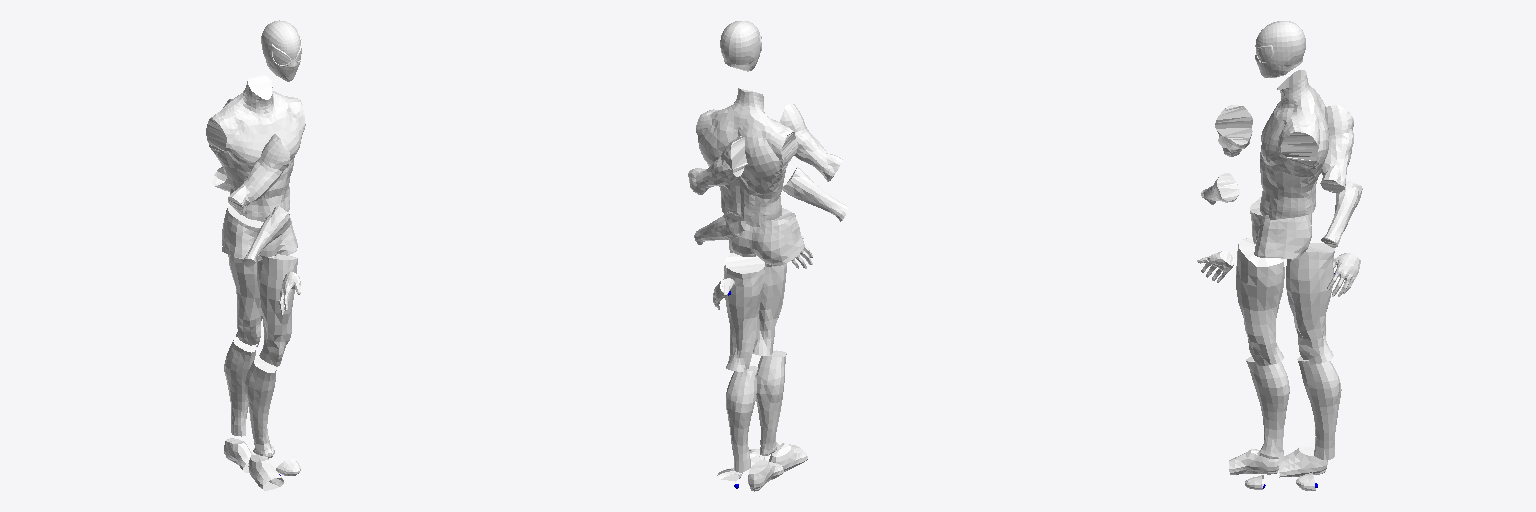
--- What the picture shows (computed from the rendered views, not written in the file) ---
The picture shows the robot from 3 angles, left to right: view 1: azimuth 30°, elevation 25°; view 2: azimuth 150°, elevation 25°; view 3: azimuth 270°, elevation 25°; orthographic projection.
Model spiderman with 41 links and 40 joints (32 revolute, 8 fixed), rooted at base_link, posed all joints at 0.
Visible links, largest first — view 1: Thorax, RThigh, Pelvis, RHumerus, RShank, LThigh, Skull, LShank, RForearm, RFoot, LFoot; view 2: Thorax, LThigh, Pelvis, RShank, LShank, RThigh, RHumerus, LHumerus, Skull, RForearm, LForearm, LFoot (+1 smaller); view 3: Thorax, RThigh, LThigh, LShank, RShank, Pelvis, Skull, LHumerus, RHumerus, LForearm, LFoot, RFoot (+3 smaller).
Boxes of the visible links, <box> form: Thorax: <box>206,74,305,221</box>; RThigh: <box>257,254,297,366</box>; Pelvis: <box>222,206,297,260</box>; RHumerus: <box>228,134,289,214</box>; RShank: <box>245,357,276,456</box>; LThigh: <box>228,255,262,346</box>; Skull: <box>261,20,301,81</box>; LShank: <box>224,337,255,436</box>; RForearm: <box>243,206,291,266</box>; RFoot: <box>248,455,283,490</box>; LFoot: <box>224,438,253,472</box>; Thorax: <box>696,88,797,222</box>; LThigh: <box>724,253,764,371</box>; Pelvis: <box>729,208,804,266</box>; RShank: <box>756,350,786,455</box>; LShank: <box>726,365,758,472</box>; RThigh: <box>753,263,786,355</box>; RHumerus: <box>780,103,842,181</box>; LHumerus: <box>688,136,747,194</box>; Skull: <box>720,21,761,71</box>; RForearm: <box>782,167,847,221</box>; LForearm: <box>694,211,744,244</box>; LFoot: <box>748,460,783,491</box>; Thorax: <box>1260,70,1328,219</box>; RThigh: <box>1236,238,1284,365</box>; LThigh: <box>1286,243,1334,364</box>; LShank: <box>1297,356,1341,459</box>; RShank: <box>1246,356,1289,458</box>; Pelvis: <box>1250,196,1311,259</box>; Skull: <box>1255,21,1305,77</box>; LHumerus: <box>1320,105,1353,192</box>; RHumerus: <box>1215,105,1252,156</box>; LForearm: <box>1321,180,1362,247</box>; LFoot: <box>1278,447,1327,477</box>; RFoot: <box>1229,449,1279,474</box>.
Bounding box of the posed robot: 0.475 × 0.6128 × 1.93 m (x, y, z).
17 mesh visuals loaded from 17 distinct referenced files (17 binary STL).

robot.urdf — spiderman:
<?xml version="1.0"?>
<!-- meshes from http://tf3dm.com/ -->
<robot name="spiderman">
  <material name="Blue"> <!-- for spheres -->
    <color rgba="0 0 1 0.5"/>
  </material>
  <material name="White"> <!-- for bones -->
    <color rgba="1 1 1 1"/>
  </material>
  <material name="Green"> <!-- for bones -->
    <color rgba="0 1 0.1 0.2"/>
  </material>

  <link name="base_link"/>
  <joint name="base_link_J" type="fixed">
      <parent link="base_link"/>
      <child link="Pelvis"/>
      <origin rpy="0 0 0" xyz="0 0 0"/>
   </joint>

  <link name="virtualPelvis"/> <!-- for Blender Armature export -->
  <joint name="virtualPelvis" type="fixed">
      <parent link="base_link"/>
      <child link="virtualPelvis"/>
      <origin rpy="0 0 0" xyz="0 0 0"/>
  </joint>

   <link name="Pelvis">
      <inertial>
         <origin rpy="0 0 0" xyz="0 0 0"/>
         <mass value="8.4552"/>
         <inertia ixx="0" ixy="0" ixz="0" iyy="0" iyz="0" izz="0"/>
      </inertial>
      <visual>
         <origin xyz="0 0 0" rpy="0 0 0"/>
         <geometry>
            <mesh filename="package://hpp-rbprm-corba/meshes/spiderman/spiderman-pelvis.stl"/>
         </geometry>
         <material name="White"/>
      </visual>
      <collision>
         <origin xyz="0 0 0" rpy="0 0 0"/>
         <geometry>
            <mesh filename="package://hpp-rbprm-corba/meshes/spiderman/spiderman-pelvis.stl"/>
         </geometry>
      </collision>
   </link>

  <!--<joint name="pelvis_rfoot_rom_joint" type="fixed">
      <parent link="Pelvis"/>
      <child link="pelvis_rfoot_rom"/>
      <origin rpy="0 0 0" xyz="0 0 0"/>
   </joint>
  <link name="pelvis_rfoot_rom">
      <visual>
         <origin xyz="0 0 0" rpy="0 0 0"/>
         <geometry>
            <mesh filename="package://hpp-rbprm-corba/meshes/spiderman/rfoot_rom.stl"/>
         </geometry>
         <material name="Green"/>
      </visual>
   </link>-->
   
  <!--<joint name="pelvis_lfoot_rom_joint" type="fixed">
      <parent link="Pelvis"/>
      <child link="pelvis_lfoot_rom"/>
      <origin rpy="0 0 0" xyz="0 0 0"/>
   </joint>
  <link name="pelvis_lfoot_rom">
      <visual>
         <origin xyz="0 0 0" rpy="0 0 0"/>
         <geometry>
            <mesh filename="package://hpp-rbprm-corba/meshes/spiderman/lfoot_rom.stl"/>
         </geometry>
         <material name="Green"/>
      </visual>
   </link>-->

   <link name="Thorax_rx"/>
   <link name="Thorax_ry"/>
   <link name="Thorax">
      <inertial>
         <origin rpy="0 0 0" xyz="0 0 0"/>
         <mass value="19.8372"/>
         <inertia ixx="-0.16485" ixy="0.25777" ixz="0.0015499" iyy="0.20309" iyz="-0.0061998" izz="-0.18263"/>
      </inertial>
      <visual>
         <origin xyz="0 0 0" rpy="0 0 0"/>
         <geometry>
            <mesh filename="package://hpp-rbprm-corba/meshes/spiderman/spiderman-thorax.stl"/>
         </geometry>
         <material name="White"/>
      </visual>
      <collision>
         <origin xyz="0 0 0" rpy="0 0 0"/>
         <geometry>
            <mesh filename="package://hpp-rbprm-corba/meshes/spiderman/spiderman-thorax.stl"/>
         </geometry>
      </collision>
   </link>

  <!--<joint name="thorax_rhand_rom_joint" type="fixed">
      <parent link="Thorax"/>
      <child link="thorax_rhand_rom"/>
      <origin rpy="0 0 0" xyz="0 0 0"/>
   </joint>
  <link name="thorax_rhand_rom">
      <visual>
         <origin xyz="0 0 0" rpy="0 0 0"/>
         <geometry>
            <mesh filename="package://hpp-rbprm-corba/meshes/spiderman/rhand_rom.stl"/>
         </geometry>
         <material name="Green"/>
      </visual>
   </link>

  <joint name="thorax_lhand_rom_joint" type="fixed">
      <parent link="Thorax"/>
      <child link="thorax_lhand_rom"/>
      <origin rpy="0 0 0" xyz="0 0 0"/>
   </joint>
  <link name="thorax_lhand_rom">
      <visual>
         <origin xyz="0 0 0" rpy="0 0 0"/>
         <geometry>
            <mesh filename="package://hpp-rbprm-corba/meshes/spiderman/lhand_rom.stl"/>
         </geometry>
         <material name="Green"/>
      </visual>
   </link>-->

   <link name="Skull_rx"/>
   <link name="Skull_ry"/>
   <link name="Skull">
      <inertial>
         <origin rpy="0 0 0" xyz="0 0 0"/>
         <mass value="4.2276"/>
         <inertia ixx="0.0071027" ixy="-0.00059867" ixz="-2.9564e-05" iyy="0.0046194" iyz="6.6519e-05" izz="0.0080488"/>
      </inertial>
      <visual>
         <origin xyz="0 0 0" rpy="0 0 0"/>
         <geometry>
            <mesh filename="package://hpp-rbprm-corba/meshes/spiderman/spiderman-skull.stl"/>
         </geometry>
         <material name="White"/>
      </visual>
      <collision>
         <origin xyz="0 0 0" rpy="0 0 0"/>
         <geometry>
            <mesh filename="package://hpp-rbprm-corba/meshes/spiderman/spiderman-skull.stl"/>
         </geometry>
      </collision>
   </link>
   <link name="RThigh_rx"/>
   <link name="RThigh_ry"/>
   <link name="RThigh">
      <inertial>
         <origin rpy="0 0 0" xyz="0 0 0"/>
         <mass value="7.3797"/>
         <inertia ixx="0.11501" ixy="0.0067008" ixz="-0.000547" iyy="0.030769" iyz="-0.0067008" izz="0.12308"/>
      </inertial>
      <visual>
         <origin xyz="0 0 0" rpy="0 0 0"/>
         <geometry>
            <mesh filename="package://hpp-rbprm-corba/meshes/spiderman/spiderman-RThigh.stl"/>
         </geometry>
         <material name="White"/>
      </visual>
      <collision>
         <origin xyz="0 0 0" rpy="0 0 0"/>
         <geometry>
            <mesh filename="package://hpp-rbprm-corba/meshes/spiderman/spiderman-RThigh.stl"/>
         </geometry>
      </collision>
   </link>
   <link name="RShank">
      <inertial>
         <origin rpy="0 0 0" xyz="0 0 0"/>
         <mass value="2.8801"/>
         <inertia ixx="0.042617" ixy="-0.00086974" ixz="-0.00021743" iyy="0.0054359" iyz="0.001359" izz="0.042617"/>
      </inertial>
      <visual>
         <origin xyz="0 0 0" rpy="0 0 0"/>
         <geometry>
            <mesh filename="package://hpp-rbprm-corba/meshes/spiderman/spiderman-RShank.stl"/>
         </geometry>
         <material name="White"/>
      </visual>
      <collision>
         <origin xyz="0 0 0" rpy="0 0 0"/>
         <geometry>
            <mesh filename="package://hpp-rbprm-corba/meshes/spiderman/spiderman-RShank.stl"/>
         </geometry>
      </collision>
   </link>
   <link name="RFoot_ry"/>
   <link name="RFoot">
      <inertial>
         <origin rpy="0 0 0" xyz="0 0 0"/>
         <mass value="0.52"/>
         <inertia ixx="0.0035454" ixy="0.00043767" ixz="0" iyy="0.00074844" iyz="-0.00016575" izz="0.0033563"/>
      </inertial>
      <visual>
         <origin xyz="0 0 0" rpy="0 0 0"/>
         <geometry>
            <mesh filename="package://hpp-rbprm-corba/meshes/spiderman/spiderman-RFoot.stl"/>
         </geometry>
         <material name="White"/>
      </visual>
      <collision>
         <origin xyz="0 0 0" rpy="0 0 0"/>
         <geometry>
            <mesh filename="package://hpp-rbprm-corba/meshes/spiderman/spiderman-RFoot.stl"/>
         </geometry>
      </collision>
   </link>
   <link name="RFootToe">
      <inertial>
         <origin rpy="0 0 0" xyz="0 0 0"/>
         <mass value="0.2"/>
         <inertia ixx="0.0035454" ixy="0.00043767" ixz="0" iyy="0.00074844" iyz="-0.00016575" izz="0.0033563"/>
      </inertial>
      <visual>
         <origin xyz="0 0 0" rpy="0 0 0"/>
         <geometry>
            <mesh filename="package://hpp-rbprm-corba/meshes/spiderman/spiderman-RFootToe.stl"/>
         </geometry>
         <material name="White"/>
      </visual>
      <collision>
         <origin xyz="0 0 0" rpy="0 0 0"/>
         <geometry>
            <mesh filename="package://hpp-rbprm-corba/meshes/spiderman/spiderman-RFootToe.stl"/>
         </geometry>
      </collision>
   </link>
  <link name="SpidermanRFootSphere">
      <visual>
         <origin xyz="0 0 0" rpy="0 0 0"/>
         <geometry>
            <sphere radius="0.01"/>
         </geometry>
         <material name="Blue"/>
      </visual>
   </link>
   <link name="LThigh_rx"/>
   <link name="LThigh_ry"/>
   <link name="LThigh">
      <inertial>
         <origin rpy="0 0 0" xyz="0 0 0"/>
         <mass value="7.3797"/>
         <inertia ixx="0.11501" ixy="0.0067008" ixz="-0.000547" iyy="0.030769" iyz="-0.0067008" izz="0.12308"/>
      </inertial>
      <visual>
         <origin xyz="0 0 0" rpy="0 0 0"/>
         <geometry>
            <mesh filename="package://hpp-rbprm-corba/meshes/spiderman/spiderman-LThigh.stl"/>
         </geometry>
         <material name="White"/>
      </visual>
      <collision>
         <origin xyz="0 0 0" rpy="0 0 0"/>
         <geometry>
            <mesh filename="package://hpp-rbprm-corba/meshes/spiderman/spiderman-LThigh.stl"/>
         </geometry>
      </collision>
   </link>
   <link name="LShank">
      <inertial>
         <origin rpy="0 0 0" xyz="0 0 0"/>
         <mass value="2.8801"/>
         <inertia ixx="0.042617" ixy="-0.00086974" ixz="-0.00021743" iyy="0.0054359" iyz="0.001359" izz="0.042617"/>
      </inertial>
      <visual>
         <origin xyz="0 0 0" rpy="0 0 0"/>
         <geometry>
            <mesh filename="package://hpp-rbprm-corba/meshes/spiderman/spiderman-LShank.stl"/>
         </geometry>
         <material name="White"/>
      </visual>
      <collision>
         <origin xyz="0 0 0" rpy="0 0 0"/>
         <geometry>
            <mesh filename="package://hpp-rbprm-corba/meshes/spiderman/spiderman-LShank.stl"/>
         </geometry>
      </collision>
   </link>
   <link name="LFoot_ry"/>
   <link name="LFoot">
      <inertial>
         <origin rpy="0 0 0" xyz="0 0 0"/>
         <mass value="0.52"/>
         <inertia ixx="0.0035454" ixy="0.00043767" ixz="0" iyy="0.00074844" iyz="-0.00016575" izz="0.0033563"/>
      </inertial>
      <visual>
         <origin xyz="0 0 0" rpy="0 0 0"/>
         <geometry>
            <mesh filename="package://hpp-rbprm-corba/meshes/spiderman/spiderman-LFoot.stl"/>
         </geometry>
         <material name="White"/>
      </visual>
      <collision>
         <origin xyz="0 0 0" rpy="0 0 0"/>
         <geometry>
            <mesh filename="package://hpp-rbprm-corba/meshes/spiderman/spiderman-LFoot.stl"/>
         </geometry>
      </collision>
   </link>
   <link name="LFootToe">
      <inertial>
         <origin rpy="0 0 0" xyz="0 0 0"/>
         <mass value="0.2"/>
         <inertia ixx="0.0035454" ixy="0.00043767" ixz="0" iyy="0.00074844" iyz="-0.00016575" izz="0.0033563"/>
      </inertial>
      <visual>
         <origin xyz="0 0 0" rpy="0 0 0"/>
         <geometry>
            <mesh filename="package://hpp-rbprm-corba/meshes/spiderman/spiderman-LFootToe.stl"/>
         </geometry>
         <material name="White"/>
      </visual>
      <collision>
         <origin xyz="0 0 0" rpy="0 0 0"/>
         <geometry>
            <mesh filename="package://hpp-rbprm-corba/meshes/spiderman/spiderman-LFootToe.stl"/>
         </geometry>
      </collision>
   </link>
  <link name="SpidermanLFootSphere">
      <visual>
         <origin xyz="0 0 0" rpy="0 0 0"/>
         <geometry>
            <sphere radius="0.01"/>
         </geometry>
         <material name="Blue"/>
      </visual>
   </link>
   <link name="RHumerus_rx"/>
   <link name="RHumerus_ry"/>
   <link name="RHumerus">
      <inertial>
         <origin rpy="0 0 0" xyz="0 0 0"/>
         <mass value="1.4399"/>
         <inertia ixx="-0.022156" ixy="0.00051827" ixz="0.00035991" iyy="0.0028217" iyz="5.7586e-05" izz="-0.021249"/>
      </inertial>
      <visual>
         <origin xyz="0 0 0" rpy="0 0 0"/>
         <geometry>
            <mesh filename="package://hpp-rbprm-corba/meshes/spiderman/spiderman-RHumerus.stl"/>
         </geometry>
         <material name="White"/>
      </visual>
      <collision>
         <origin xyz="0 0 0" rpy="0 0 0"/>
         <geometry>
            <mesh filename="package://hpp-rbprm-corba/meshes/spiderman/spiderman-RHumerus.stl"/>
         </geometry>
      </collision>
   </link>
   <link name="RForearm_ry"/>
   <link name="RForearm">
      <inertial>
         <origin rpy="0 0 0" xyz="0 0 0"/>
         <mass value="1.02"/>
         <inertia ixx="-0.0082187" ixy="5.6551e-05" ixz="2.5134e-05" iyy="0.0007603" iyz="-0.00040214" izz="-0.0085643"/>
      </inertial>
      <visual>
         <origin xyz="0 0 0" rpy="0 0 0"/>
         <geometry>
            <mesh filename="package://hpp-rbprm-corba/meshes/spiderman/spiderman-RForearm.stl"/>
         </geometry>
         <material name="White"/>
      </visual>
      <collision>
         <origin xyz="0 0 0" rpy="0 0 0"/>
         <geometry>
            <mesh filename="package://hpp-rbprm-corba/meshes/spiderman/spiderman-RForearm.stl"/>
         </geometry>
      </collision>
   </link>
   <link name="RHand_rx"/>
   <link name="RHand">
      <inertial>
         <origin rpy="0 0 0" xyz="0 0 0"/>
         <mass value="0.36011"/>
         <inertia ixx="0.0036215" ixy="0.00058753" ixz="0.00027313" iyy="0.0017529" iyz="-0.00048556" izz="0.0029113"/>
      </inertial>
      <visual>
         <origin xyz="0 0 0" rpy="0 0 0"/>
         <geometry>
            <mesh filename="package://hpp-rbprm-corba/meshes/spiderman/spiderman-RHand.stl"/>
         </geometry>
         <material name="White"/>
      </visual>
      <collision>
         <origin xyz="0 0 0" rpy="0 0 0"/>
         <geometry>
            <mesh filename="package://hpp-rbprm-corba/meshes/spiderman/spiderman-RHand.stl"/>
         </geometry>
      </collision>
   </link>
  <link name="SpidermanRHandSphere">
      <visual>
         <origin xyz="0 0 0" rpy="0 0 0"/>
         <geometry>
            <sphere radius = "0.01"/>
         </geometry>
         <material name="Blue"/>
      </visual>
   </link>

   <link name="LHumerus_rx"/>
   <link name="LHumerus_ry"/>
   <link name="LHumerus">
      <inertial>
         <origin rpy="0 0 0" xyz="0 0 0"/>
         <mass value="1.4399"/>
         <inertia ixx="-0.022156" ixy="0.00051827" ixz="0.00035991" iyy="0.0028217" iyz="5.7586e-05" izz="-0.021249"/>
      </inertial>
      <visual>
         <origin xyz="0 0 0" rpy="0 0 0"/>
         <geometry>
            <mesh filename="package://hpp-rbprm-corba/meshes/spiderman/spiderman-LHumerus.stl"/>
         </geometry>
         <material name="White"/>
      </visual>
      <collision>
         <origin xyz="0 0 0" rpy="0 0 0"/>
         <geometry>
            <mesh filename="package://hpp-rbprm-corba/meshes/spiderman/spiderman-LHumerus.stl"/>
         </geometry>
      </collision>
   </link>
   <link name="LForearm_ry"/>
   <link name="LForearm">
      <inertial>
         <origin rpy="0 0 0" xyz="0 -0.11352 0"/>
         <mass value="1.02"/>
         <inertia ixx="-0.0082187" ixy="5.6551e-05" ixz="2.5134e-05" iyy="0.0007603" iyz="-0.00040214" izz="-0.0085643"/>
      </inertial>
      <visual>
         <origin xyz="0 0 0" rpy="0 0 0"/>
         <geometry>
            <mesh filename="package://hpp-rbprm-corba/meshes/spiderman/spiderman-LForearm.stl"/>
         </geometry>
         <material name="White"/>
      </visual>
      <collision>
         <origin xyz="0 0 0" rpy="0 0 0"/>
         <geometry>
            <mesh filename="package://hpp-rbprm-corba/meshes/spiderman/spiderman-LForearm.stl"/>
         </geometry>
      </collision>
   </link>
   <link name="LHand_rx"/>
   <link name="LHand">
      <inertial>
         <origin rpy="0 0 0" xyz="0 0 0"/>
         <mass value="0.36011"/>
         <inertia ixx="0.0036215" ixy="0.00058753" ixz="0.00027313" iyy="0.0017529" iyz="-0.00048556" izz="0.0029113"/>
      </inertial>
      <visual>
         <origin xyz="0 0 0" rpy="0 0 0"/>
         <geometry>
            <mesh filename="package://hpp-rbprm-corba/meshes/spiderman/spiderman-LHand.stl"/>
         </geometry>
         <material name="White"/>
      </visual>
      <collision>
         <origin xyz="0 0 0" rpy="0 0 0"/>
         <geometry>
            <mesh filename="package://hpp-rbprm-corba/meshes/spiderman/spiderman-LHand.stl"/>
         </geometry>
      </collision>
   </link>
  <link name="SpidermanLHandSphere">
      <visual>
         <origin xyz="0 0 0" rpy="0 0 0"/>
         <geometry>
            <sphere radius="0.01"/>
         </geometry>
         <material name="Blue"/>
      </visual>
   </link>

  <joint name="A_Thorax_rx" type="revolute"> <!-- A_ added for order while parsing with ROS -->
      <parent link="Pelvis"/>
      <child link="Thorax_rx"/>
      <origin rpy="0 0 0" xyz="0.0373 0.0006 0.0788"/>
      <axis xyz="1 0 0"/>
      <limit effort="0" lower="-1" upper="1" velocity="1.0"/>
   </joint>
   <joint name="Thorax_ry" type="revolute">
      <parent link="Thorax_rx"/>
      <child link="Thorax_ry"/>
      <origin rpy="0 0 0" xyz="0 0 0"/>
      <axis xyz="0 1 0"/>
      <limit effort="0" lower="-0.8" upper="0.8" velocity="1.0"/>
   </joint>
   <joint name="Thorax_rz" type="revolute">
      <parent link="Thorax_ry"/>
      <child link="Thorax"/>
      <origin rpy="0 0 0" xyz="0 0 0"/>
      <axis xyz="0 0 1"/>
      <limit effort="0" lower="-1.5" upper="1.5" velocity="1.0"/>
   </joint>
   <joint name="A_Skull_rx" type="revolute"> <!-- A_ added for order while parsing with ROS -->
      <parent link="Thorax"/>
      <child link="Skull_rx"/>
      <origin rpy="0 0 0" xyz="0.0711 -0.0005 0.6039"/>
      <axis xyz="1 0 0"/>
      <limit effort="0" lower="-0.3" upper="0.3" velocity="1.0"/>
   </joint>
   <joint name="Skull_ry" type="revolute">
      <parent link="Skull_rx"/>
      <child link="Skull_ry"/>
      <origin rpy="0 0 0" xyz="0 0 0"/>
      <axis xyz="0 1 0"/>
      <limit effort="0" lower="-1.1" upper="0.6" velocity="1.0"/>
   </joint>
   <joint name="Skull_rz" type="revolute">
      <parent link="Skull_ry"/>
      <child link="Skull"/>
      <origin rpy="0 0 0" xyz="0 0 0"/>
      <axis xyz="0 0 1"/>
      <limit effort="0" lower="-1.4" upper="1." velocity="1.0"/>
   </joint>
   <joint name="RThigh_rx" type="revolute">
      <parent link="Pelvis"/>
      <child link="RThigh_rx"/>
      <origin rpy="0 0 0" xyz="0.0367 -0.0943 -0.0844"/>
      <axis xyz="1 0 0"/>
      <limit effort="0" lower="-1.6" upper="1.2" velocity="1.0"/>
   </joint>
   <joint name="RThigh_ry" type="revolute">
      <parent link="RThigh_rx"/>
      <child link="RThigh_ry"/>
      <origin rpy="0 0 0" xyz="0 0 0"/>
      <axis xyz="0 1 0"/>
      <limit effort="0" lower="-2.5" upper="0.7" velocity="1.0"/>
   </joint>
   <joint name="RThigh_rz" type="revolute">
      <parent link="RThigh_ry"/>
      <child link="RThigh"/>
      <origin rpy="0 0 0" xyz="0 0 0"/>
      <axis xyz="0 0 1"/>
      <limit effort="0" lower="-1.6" upper="1.2" velocity="1.0"/>
   </joint>
   <joint name="RShank_ry" type="revolute">
      <parent link="RThigh"/>
      <child link="RShank"/>
      <origin rpy="0 0 0" xyz="-0.0385 0.0012 -0.4586"/>
      <axis xyz="0 1 0"/>
      <limit effort="0" lower="-0.05" upper="2.4" velocity="1.0"/>
   </joint>
   <joint name="RFoot_ry" type="revolute">
      <parent link="RShank"/>
      <child link="RFoot_ry"/>
      <origin rpy="0 0 0" xyz="-0.0310 0.0070 -0.4016"/>
      <axis xyz="0 1 0"/>
      <limit effort="0" lower="-1.1" upper="1.1" velocity="1.0"/>
   </joint>
   <joint name="RFoot_rz" type="revolute">
      <parent link="RFoot_ry"/>
      <child link="RFoot"/>
      <origin rpy="0 0 0" xyz="0 0 0"/>
      <axis xyz="0 0 1"/>
      <limit effort="0" lower="-0.6" upper="0.6" velocity="1.0"/>
   </joint>
   <joint name="RFootToe_ry" type="fixed">
      <parent link="RFoot"/>
      <child link="RFootToe"/>
      <origin rpy="0 0 0" xyz="0.1259 -0.0047 -0.0639"/>
      <!--<axis xyz="0 1 0"/>
      <limit effort="0" lower="-1" upper="0.2" velocity="1.0"/>-->
   </joint>
  <joint name="SpidermanRFootSphere" type="fixed">
      <parent link="RFoot"/>
      <child link="SpidermanRFootSphere"/>
      <!--<origin rpy="0 0 0" xyz="0.0229 0.0022 -0.0306"/>--> <!-- For RFootToe Joint -->
      <origin rpy="0 0 0" xyz="0.0866 -0.0054 -0.0972"/>
   </joint>
   <joint name="LThigh_rx" type="revolute">
      <parent link="Pelvis"/>
      <child link="LThigh_rx"/>
      <origin rpy="0 0 0" xyz="0.0355 0.0908 -0.0850"/>
      <axis xyz="1 0 0"/>
      <limit effort="0" lower="-1.2" upper="1.5" velocity="1.0"/>
   </joint>
   <joint name="LThigh_ry" type="revolute">
      <parent link="LThigh_rx"/>
      <child link="LThigh_ry"/>
      <origin rpy="0 0 0" xyz="0 0 0"/>
      <axis xyz="0 1 0"/>
      <limit effort="0" lower="-2.5" upper="0.7" velocity="1.0"/>
   </joint>
   <joint name="LThigh_rz" type="revolute">
      <parent link="LThigh_ry"/>
      <child link="LThigh"/>
      <origin rpy="0 0 0" xyz="0 0 0"/>
      <axis xyz="0 0 1"/>
      <limit effort="0" lower="-1.2" upper="1.6" velocity="1.0"/>
   </joint>
   <joint name="LShank_ry" type="revolute">
      <parent link="LThigh"/>
      <child link="LShank"/>
      <origin rpy="0 0 0" xyz="-0.0308 0 -0.4471"/>
      <axis xyz="0 1 0"/>
      <limit effort="0" lower="-0.05" upper="2.4" velocity="1.0"/>
   </joint>
   <joint name="LFoot_ry" type="revolute">
      <parent link="LShank"/>
      <child link="LFoot_ry"/>
      <origin rpy="0 0 0" xyz="-0.0393 0.0026 -0.4117"/>
      <axis xyz="0 1 0"/>
      <limit effort="0" lower="-1.1" upper="1.1" velocity="1.0"/>
   </joint>
   <joint name="LFoot_rz" type="revolute">
      <parent link="LFoot_ry"/>
      <child link="LFoot"/>
      <origin rpy="0 0 0" xyz="0 0 0"/>
      <axis xyz="0 0 1"/>
      <limit effort="0" lower="-0.6" upper="0.6" velocity="1.0"/>
   </joint>
   <joint name="LFootToe_ry" type="fixed">
      <parent link="LFoot"/>
      <child link="LFootToe"/>
      <origin rpy="0 0 0" xyz="0.1277 0.0052 -0.0646"/>
      <!--<axis xyz="0 1 0"/>
      <limit effort="0" lower="-1" upper="0.2" velocity="1.0"/>-->
   </joint>
  <joint name="SpidermanLFootSphere" type="fixed">
      <parent link="LFoot"/>
      <child link="SpidermanLFootSphere"/>
      <!--<origin rpy="0 0 0" xyz="0.0229 -0.0001 -0.0306"/>--> <!-- for LFootToe Joint -->
      <origin rpy="0 0 0" xyz="0.0883 0.0108 -0.0979"/>
   </joint>
   <joint name="RHumerus_rx" type="revolute">
      <parent link="Thorax"/>
      <child link="RHumerus_rx"/>
      <origin rpy="0 0 0" xyz="-0.0467 -0.1906 0.3285"/>
      <axis xyz="1 0 0"/>
      <limit effort="0" lower="-2.3" upper="0.3" velocity="1.0"/>
   </joint>
   <joint name="RHumerus_ry" type="revolute">
      <parent link="RHumerus_rx"/>
      <child link="RHumerus_ry"/>
      <origin rpy="0 0 0" xyz="0 0 0"/>
      <axis xyz="0 1 0"/>
      <limit effort="0" lower="-2.8" upper="1.6" velocity="1.0"/>
   </joint>
   <joint name="RHumerus_rz" type="revolute">
      <parent link="RHumerus_ry"/>
      <child link="RHumerus"/>
      <origin rpy="0 0 0" xyz="0 0 0"/>
      <axis xyz="0 0 1"/>
      <limit effort="0" lower="-1.5" upper="1.5" velocity="1.0"/>
   </joint>
   <joint name="RForearm_ry" type="revolute">
      <parent link="RHumerus"/>
      <child link="RForearm_ry"/>
      <origin rpy="0 0 0" xyz="0.0088 -0.0307 -0.2504"/>
      <axis xyz="0 1 0"/>
      <limit effort="0" lower="-2.3" upper="0.01" velocity="1.0"/>
   </joint>
   <joint name="RForearm_rz" type="revolute">
      <parent link="RForearm_ry"/>
      <child link="RForearm"/>
      <origin rpy="0 0 0" xyz="0 0 0"/>
      <axis xyz="0 0 1"/>
      <limit effort="0" lower="-1.7" upper="1.6" velocity="1.0"/>
   </joint>
   <joint name="RHand_rx" type="revolute">
      <parent link="RForearm"/>
      <child link="RHand_rx"/>
      <origin rpy="0 0 0" xyz="0.038 -0.0018 -0.2731"/>
      <axis xyz="1 0 0"/>
      <limit effort="0" lower="-1.6" upper="1.4" velocity="1.0"/>
   </joint>
   <joint name="RHand_ry" type="revolute">
      <parent link="RHand_rx"/>
      <child link="RHand"/>
      <origin rpy="0 0 0" xyz="0 0 0"/>
      <axis xyz="0 1 0"/>
      <limit effort="0" lower="-0.6" upper="0.6" velocity="1.0"/>
   </joint>
  <joint name="SpidermanRHandSphere" type="fixed">
      <parent link="RHand"/>
      <child link="SpidermanRHandSphere"/>
      <origin rpy="0 0 0" xyz="0.0183 0.0517 -0.0678"/>
   </joint>
   <joint name="LHumerus_rx" type="revolute">
      <parent link="Thorax"/>
      <child link="LHumerus_rx"/>
      <origin rpy="0 0 0" xyz="-0.0467 0.1854 0.3285"/> <!-- inv L R -->
      <axis xyz="1 0 0"/>
      <limit effort="0" lower="-0.3" upper="2.3" velocity="1.0"/>
   </joint>
   <joint name="LHumerus_ry" type="revolute">
      <parent link="LHumerus_rx"/>
      <child link="LHumerus_ry"/>
      <origin rpy="0 0 0" xyz="0 0 0"/>
      <axis xyz="0 1 0"/>
      <limit effort="0" lower="-2.8" upper="1.6" velocity="1.0"/> <!-- same L R -->
   </joint>
   <joint name="LHumerus_rz" type="revolute">
      <parent link="LHumerus_ry"/>
      <child link="LHumerus"/>
      <origin rpy="0 0 0" xyz="0 0 0"/>
      <axis xyz="0 0 1"/>
      <limit effort="0" lower="-1.5" upper="1.5" velocity="1.0"/> <!-- inv L R -->
   </joint>
   <joint name="LForearm_ry" type="revolute">
      <parent link="LHumerus"/>
      <child link="LForearm_ry"/>
      <origin rpy="0 0 0" xyz="-0.0011 0.0454 -0.2573"/>
      <axis xyz="0 1 0"/>
      <limit effort="0" lower="-2.3" upper="0.01" velocity="1.0"/>
   </joint>
   <joint name="LForearm_rz" type="revolute">
      <parent link="LForearm_ry"/>
      <child link="LForearm"/>
      <origin rpy="0 0 0" xyz="0 0 0"/>
      <axis xyz="0 0 1"/>
      <limit effort="0" lower="-1.6" upper="1.7" velocity="1.0"/>
   </joint>
   <joint name="LHand_rx" type="revolute">
      <parent link="LForearm"/>
      <child link="LHand_rx"/>
      <origin rpy="0 0 0" xyz="0.0351 0.0088 -0.2751"/>
      <axis xyz="1 0 0"/>
      <limit effort="0" lower="-1.4" upper="1.6" velocity="1.0"/>
   </joint>
   <joint name="LHand_ry" type="revolute">
      <parent link="LHand_rx"/>
      <child link="LHand"/>
      <origin rpy="0 0 0" xyz="0 0 0"/>
      <axis xyz="0 1 0"/>
      <limit effort="0" lower="-0.6" upper="0.6" velocity="1.0"/>
   </joint>
  <joint name="SpidermanLHandSphere" type="fixed">
      <parent link="LHand"/>
      <child link="SpidermanLHandSphere"/>
      <origin rpy="0 0 0" xyz="0.021 -0.0589 -0.0591"/>
   </joint>
</robot>
